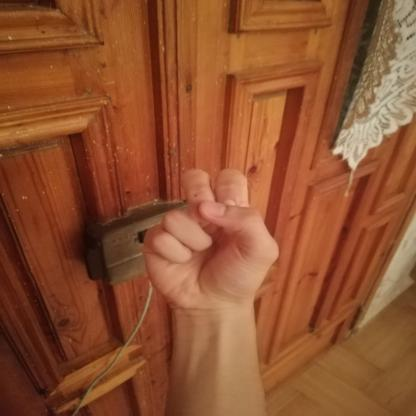QAAF: (119, 157, 304, 328)
